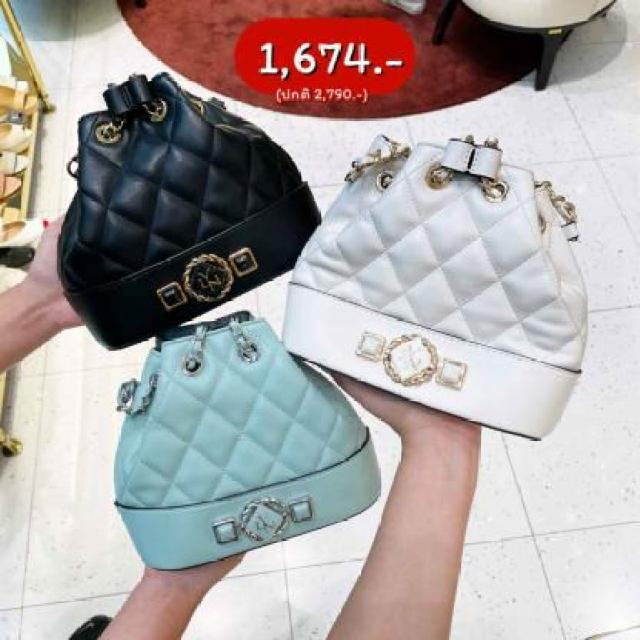Bag: (267, 82, 618, 458), (74, 302, 412, 580), (46, 59, 337, 363)
